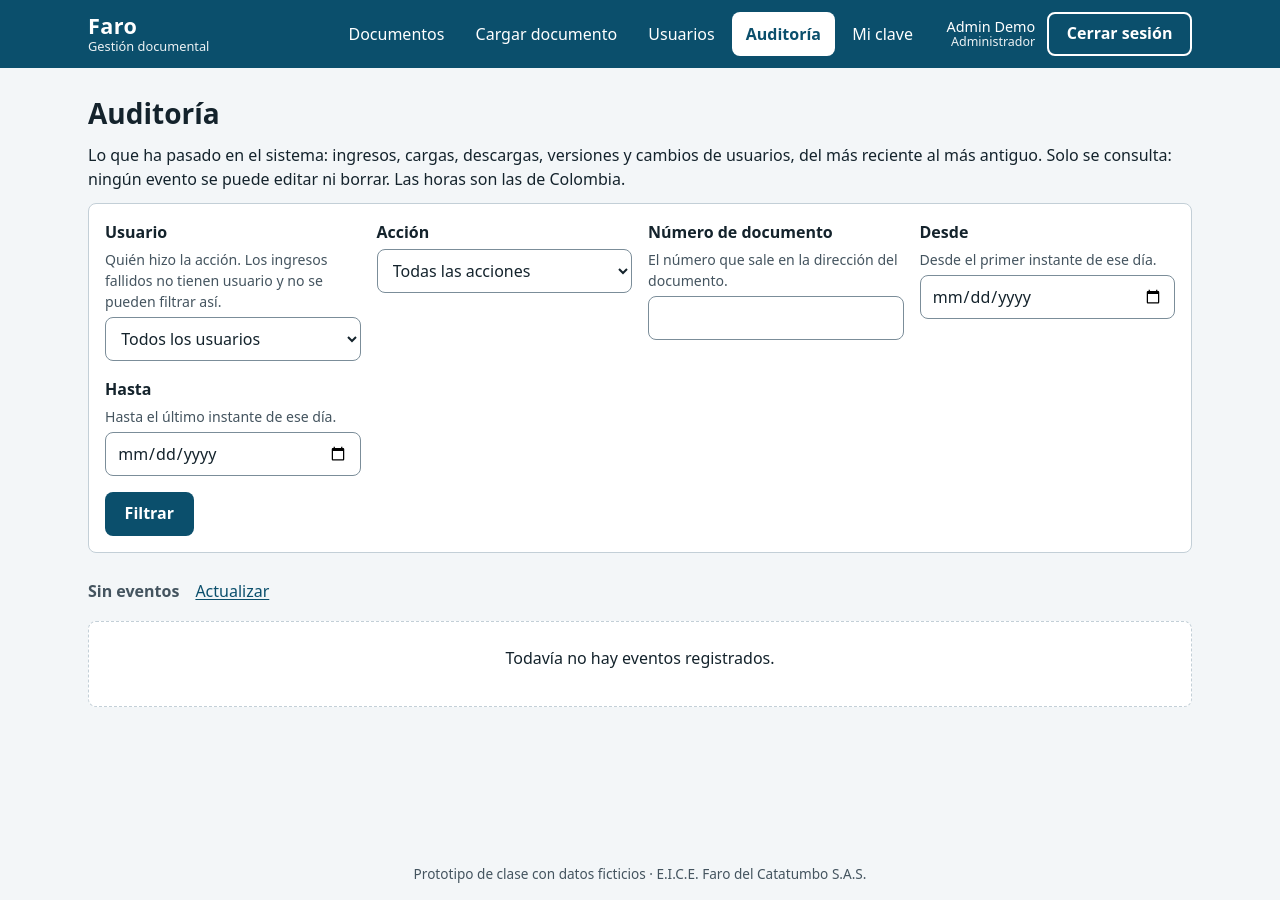
Test: lista de eventos › sin eventos lo dice; con filtros sugiere cambiarlos
This screenshot has width=1280, height=900.
Expected: the text "Todavía no hay eventos registrados." is shown, [506,647,775,669]
Select "Carga de documento" in the dropdown labelled "Acción" at (504, 271), box [376,249,632,293]
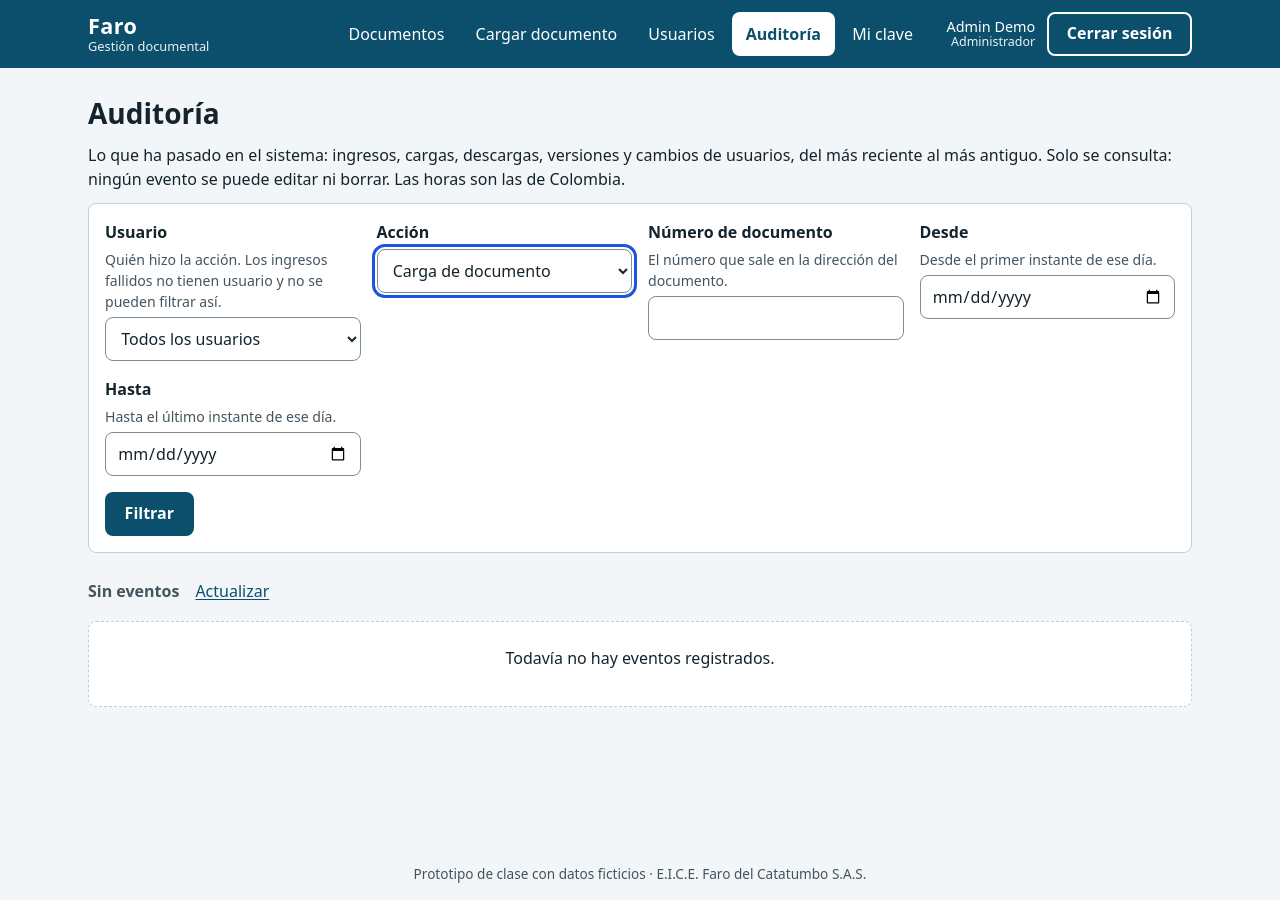
Click the button "Filtrar".
click(149, 514)  # box [105,492,194,536]
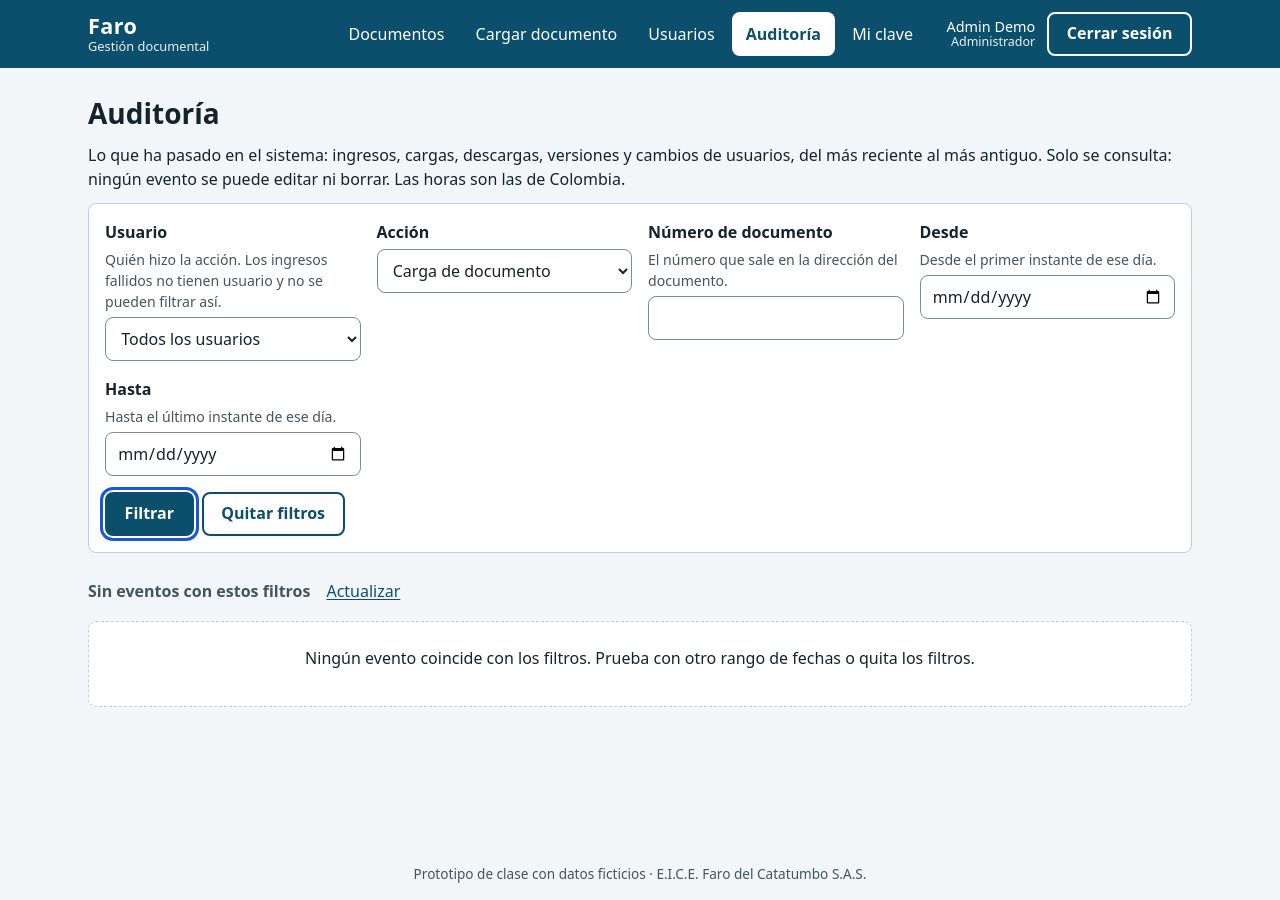
Expected: the text "Ningún evento coincide con los filtros" is shown, [305,647,975,669]
Expected: the text "Sin eventos con estos filtros" is shown, [88,579,310,603]
